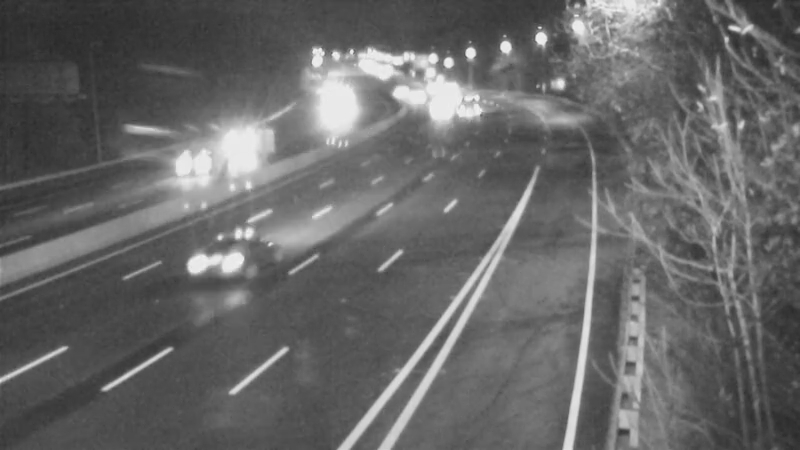vehicle: (166, 226, 246, 306), (147, 126, 227, 206), (419, 59, 469, 109), (369, 65, 419, 115), (386, 76, 436, 126), (442, 79, 492, 129), (409, 84, 459, 134), (218, 117, 268, 167)
